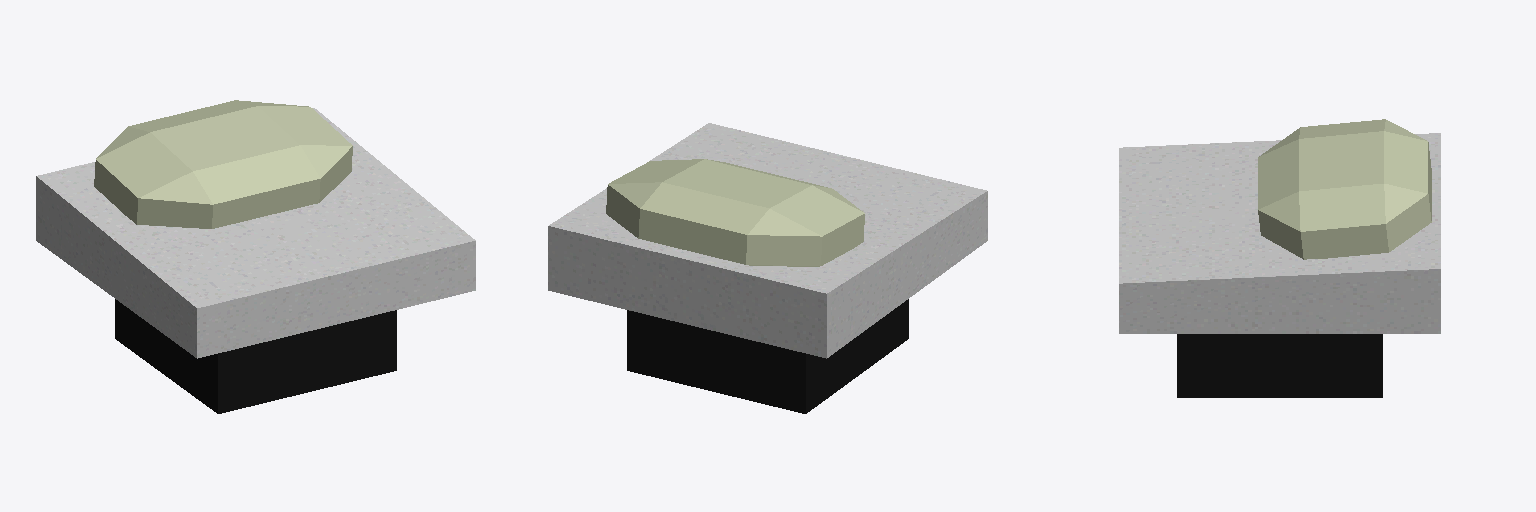
The picture shows the model from 3 angles: view 1: azimuth 30°, elevation 25°; view 2: azimuth 150°, elevation 25°; view 3: azimuth 270°, elevation 25°; orthographic projection.
Parts seen in each view (by area): view 1: bed, pilow; view 2: bed, pilow; view 3: bed, pilow.
Boxes of the visible parts, box(x1,y1,x2,y2) form: bed: box(36, 108, 475, 413); pilow: box(94, 100, 352, 228); bed: box(548, 123, 987, 413); pilow: box(606, 159, 864, 266); bed: box(1119, 133, 1440, 397); pilow: box(1258, 119, 1431, 259).
Bounding box in the file's own units: 1 × 0.6772 × 1.
2 materials, 1 textured.